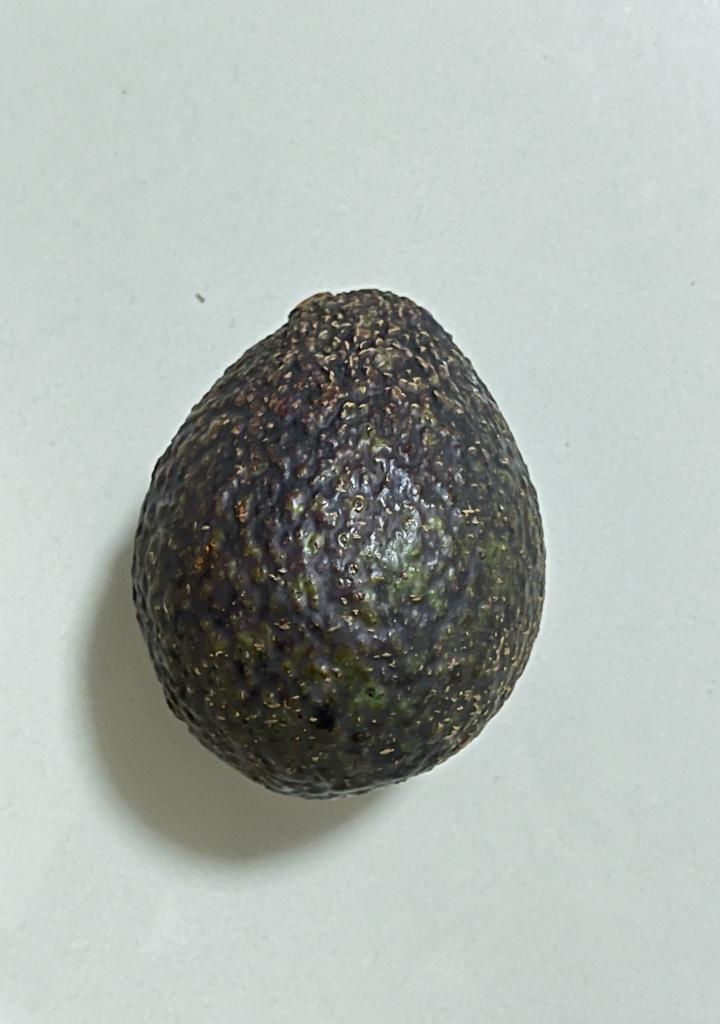Level2: (122, 274, 550, 809)
